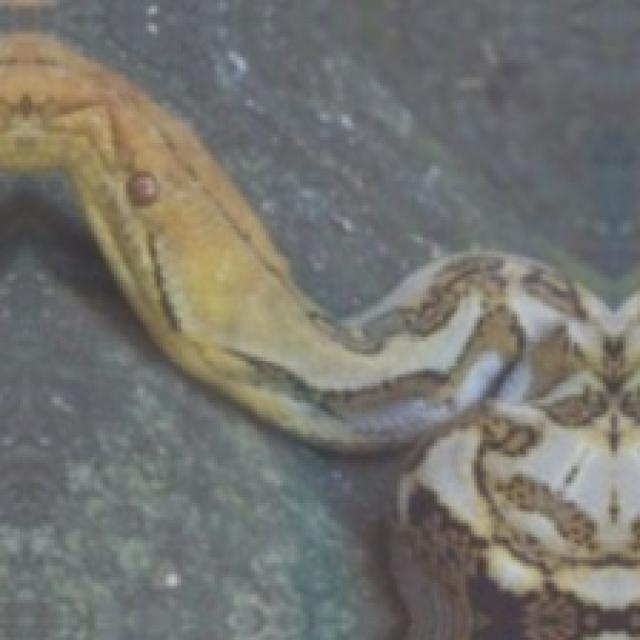reticulated python: (0, 34, 637, 637)
